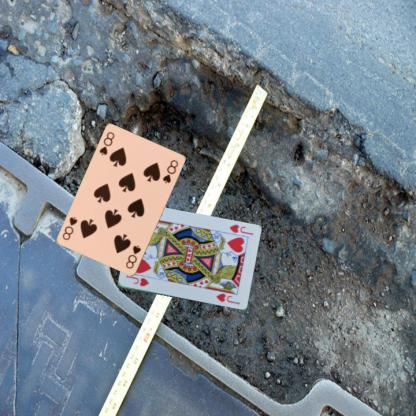8s: (123, 243, 142, 270), (96, 130, 115, 156)
Jh: (124, 272, 150, 288), (226, 222, 254, 236)
